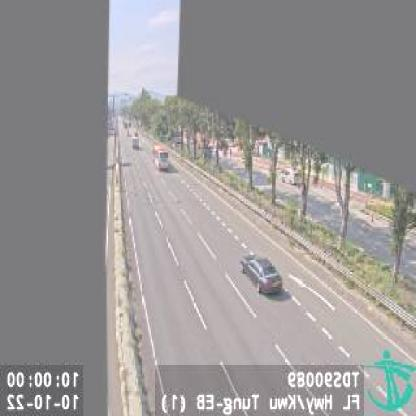Bus: (154, 142, 171, 170)
Car: (241, 252, 283, 296)
